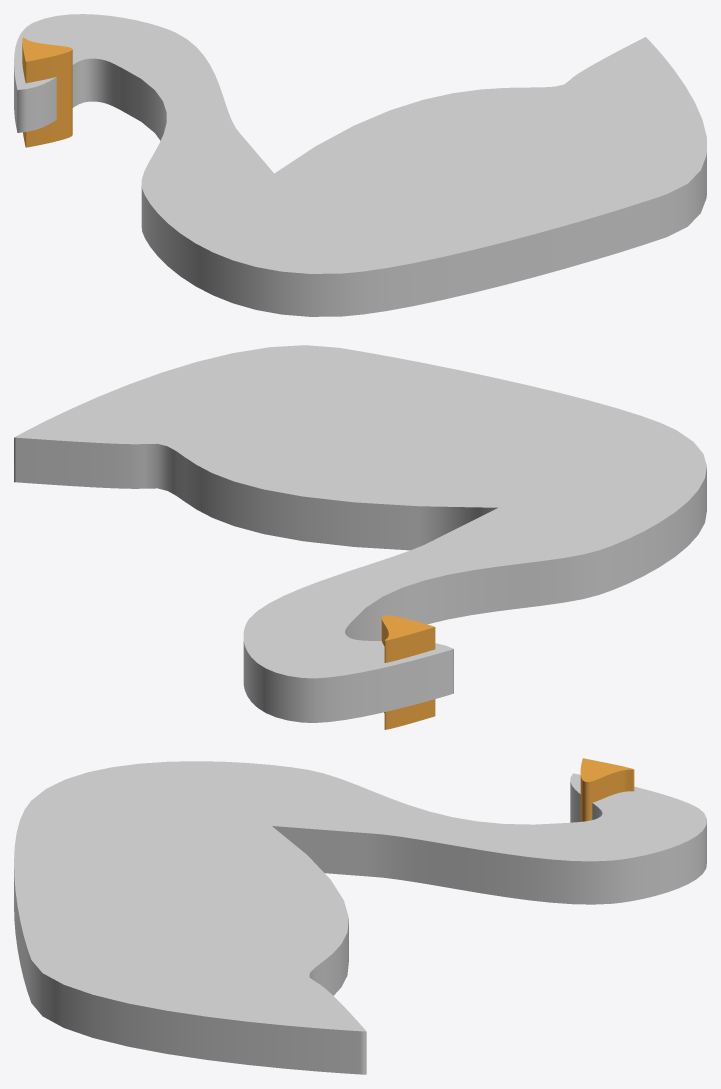
The model's file is swan.fbx.
3 renders of one model, top to bottom at view 1: azimuth 30°, elevation 25°; view 2: azimuth 150°, elevation 25°; view 3: azimuth 270°, elevation 25°, orthographic. The views are drawn at different scales.
Parts seen in each view (by area): view 1: Swan_Color_1, Swan_Color_2; view 2: Swan_Color_1, Swan_Color_2; view 3: Swan_Color_1, Swan_Color_2.
Boxes of the visible parts, <box> form: Swan_Color_1: <box>14,14,706,316</box>; Swan_Color_2: <box>22,37,72,147</box>; Swan_Color_1: <box>14,345,706,722</box>; Swan_Color_2: <box>381,615,435,729</box>; Swan_Color_1: <box>14,761,706,1074</box>; Swan_Color_2: <box>580,758,634,821</box>.
Size of the model in its own units: 1.34 by 0.2 by 1.45.
